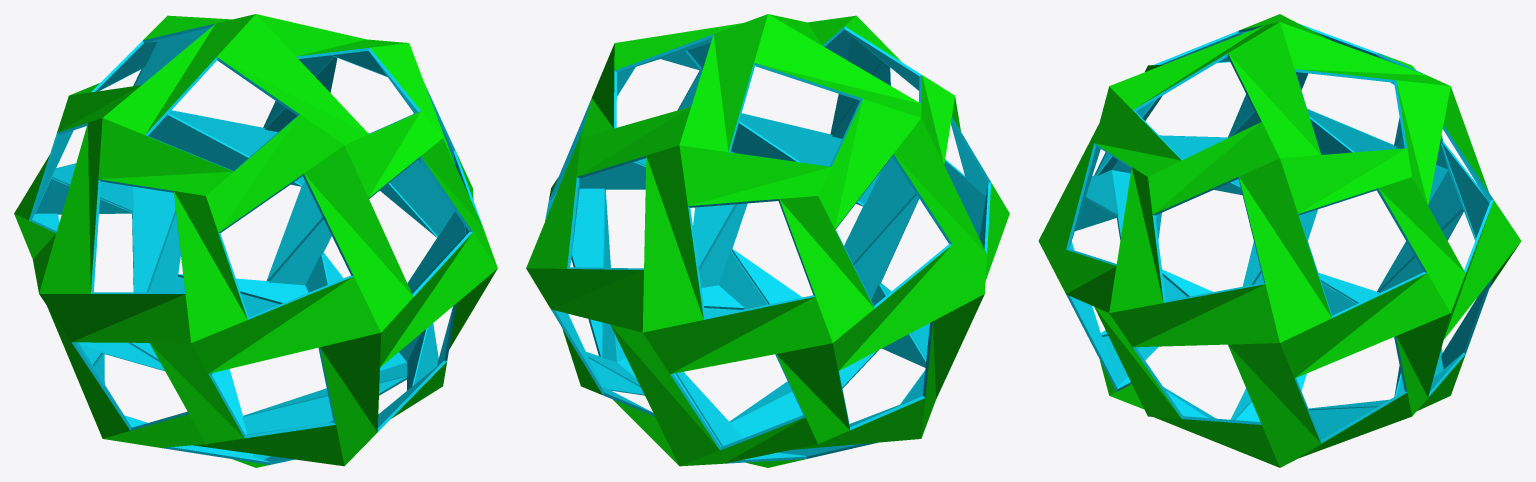
Rendered from DeltoidalIcositetrahedron.glb.
The picture shows the model from 3 angles, left to right: view 1: azimuth 30°, elevation 25°; view 2: azimuth 150°, elevation 25°; view 3: azimuth 270°, elevation 25°; orthographic projection. The views are drawn at different scales.
Parts seen in each view (by area): view 1: root; view 2: root; view 3: root.
Part boxes in pixels (<box>): root: <box>14,14,497,467</box>; root: <box>526,14,1009,467</box>; root: <box>1038,14,1521,467</box>.
Bounding box in the file's own units: 8.47 × 8.47 × 8.47.
